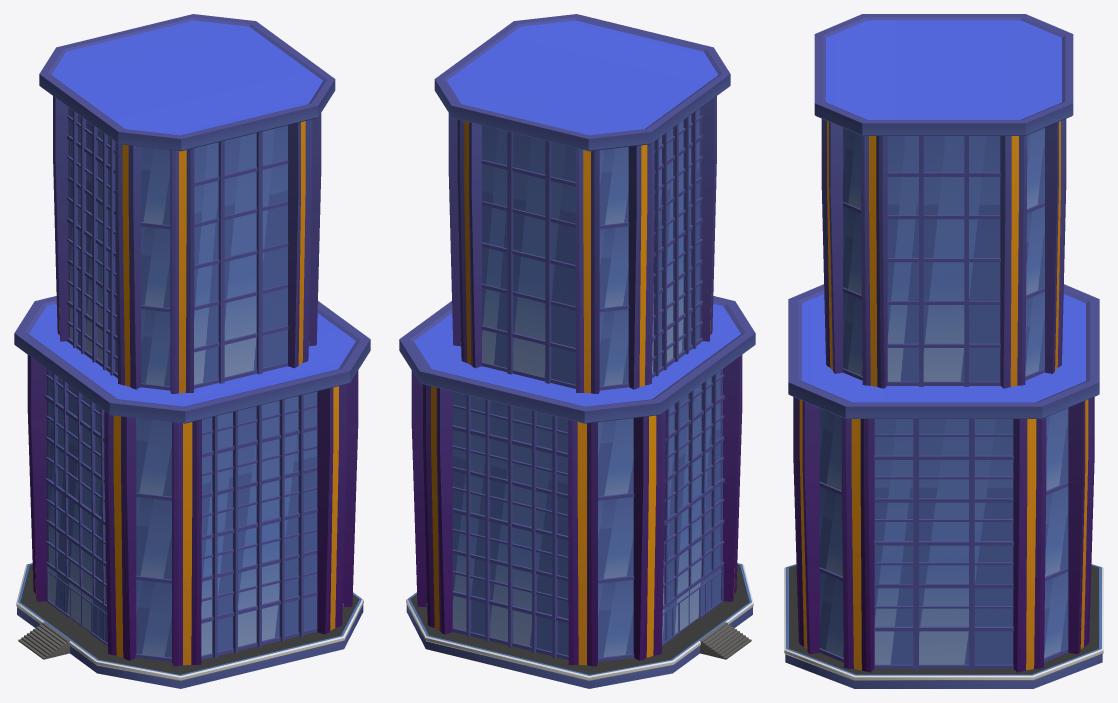
File: Building_7_2_C.fbx
The picture shows the model from 3 angles, left to right: view 1: azimuth 30°, elevation 25°; view 2: azimuth 150°, elevation 25°; view 3: azimuth 270°, elevation 25°; orthographic projection. The views are drawn at different scales.
Visible parts, largest first — view 1: Building_7_2_C; view 2: Building_7_2_C; view 3: Building_7_2_C.
Boxes of the visible parts, <box> form: Building_7_2_C: <box>14,14,370,688</box>; Building_7_2_C: <box>399,14,755,688</box>; Building_7_2_C: <box>784,14,1103,688</box>.
Size of the model in its own units: 2520 by 4418 by 2311.
